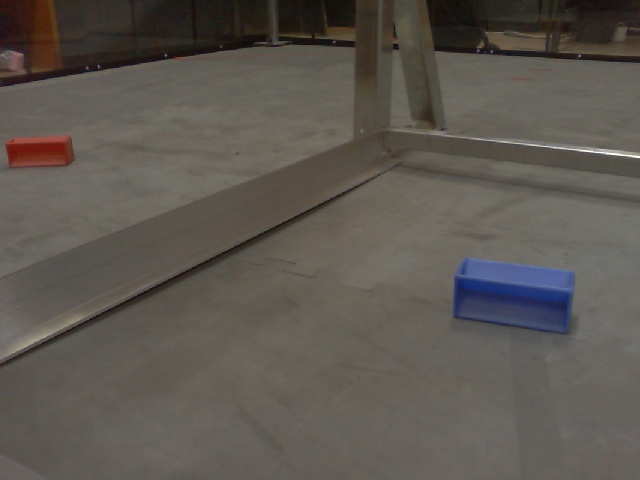BlueSample: (448, 255, 578, 338)
RedSample: (4, 134, 79, 169)
